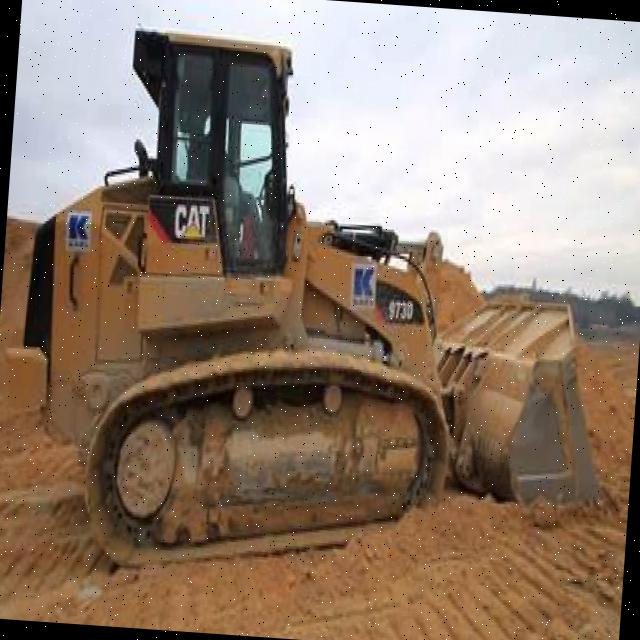Bulldozer: (16, 0, 628, 597)
